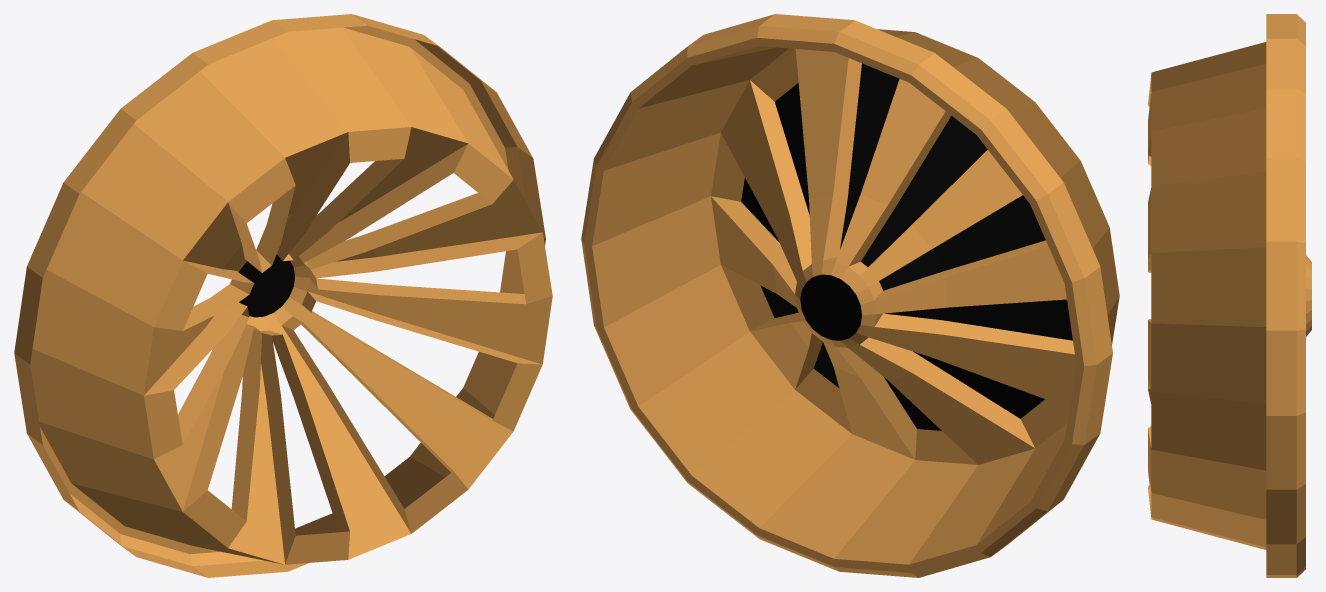
File: Ring6_rear.fbx
The picture shows the model from 3 angles, left to right: view 1: azimuth 30°, elevation 25°; view 2: azimuth 150°, elevation 25°; view 3: azimuth 270°, elevation 25°; orthographic projection. The views are drawn at different scales.
Parts seen in each view (by area): view 1: polySurface5; view 2: polySurface5; view 3: polySurface5.
Part boxes in pixels (x1=…): polySurface5: x1=14, y1=14, x2=552, y2=577; polySurface5: x1=581, y1=14, x2=1119, y2=577; polySurface5: x1=1148, y1=14, x2=1311, y2=577.
Bounding box in the file's own units: 0.0291 × 0.0291 × 0.00841.
